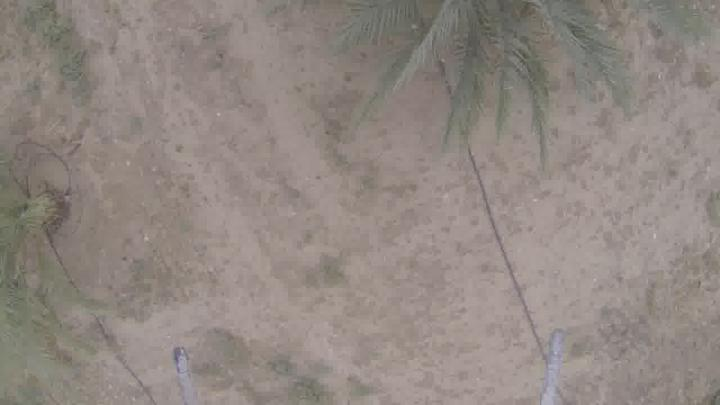Date-Palm-Crown: (385, 1, 617, 76), (0, 191, 30, 368)
